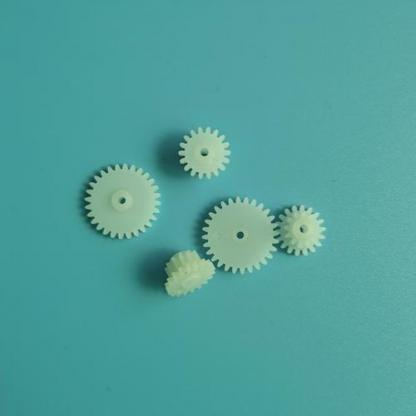FOD: (81, 160, 162, 241), (202, 196, 280, 276), (159, 246, 217, 301), (279, 202, 327, 260), (178, 128, 231, 180)
